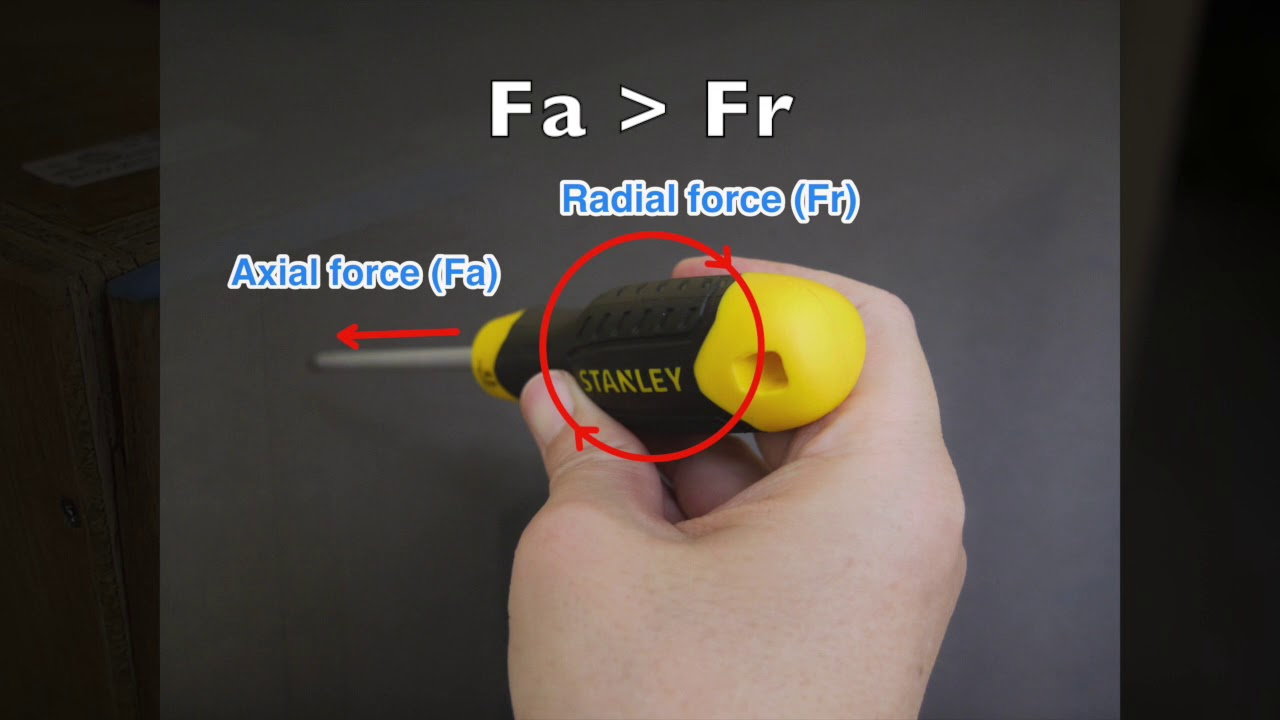screwdriver: (323, 266, 866, 443)
